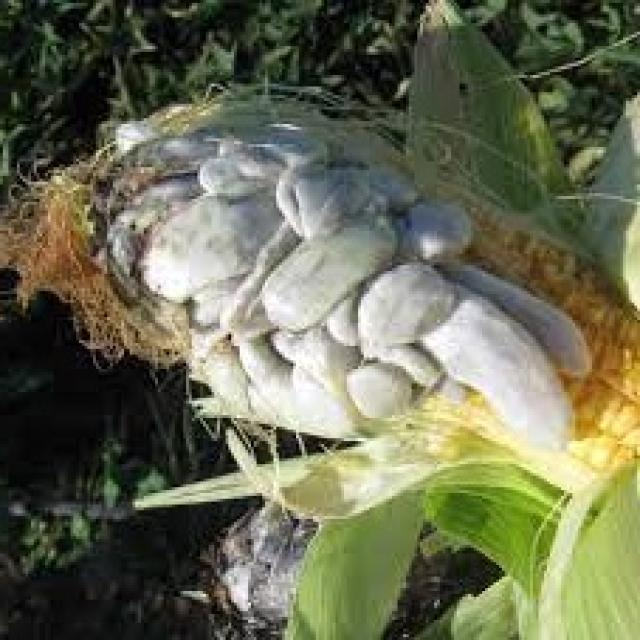Leaf_Scald: (16, 66, 620, 548)
